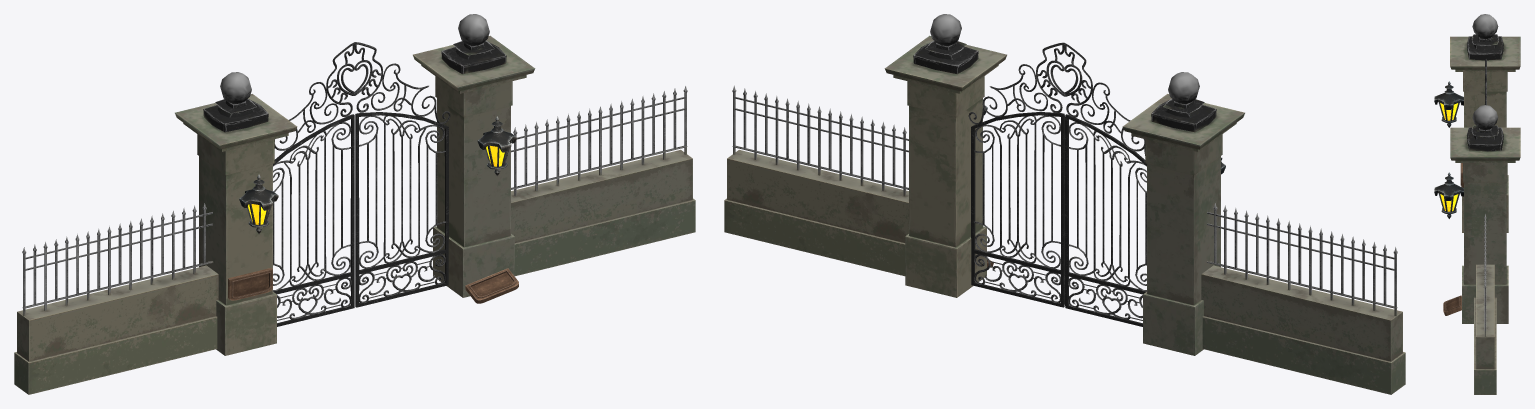
Rendered from graveyard_entrance.glb.
3 renders of one model, left to right at view 1: azimuth 30°, elevation 25°; view 2: azimuth 150°, elevation 25°; view 3: azimuth 270°, elevation 25°, orthographic. The views are drawn at different scales.
Parts seen in each view (by area): view 1: wall_low.001_5, Wall_Colum_low_4, Gate_low_2, Gate_Top_low_1, Lamp_low_3, sign_low_0; view 2: wall_low.001_5, Wall_Colum_low_4, Gate_low_2, Gate_Top_low_1; view 3: Wall_Colum_low_4, wall_low.001_5, Lamp_low_3, sign_low_0.
Boxes of the visible parts, x1,y1,x2,y2 form: wall_low.001_5: (14, 86, 695, 394); Wall_Colum_low_4: (175, 14, 535, 355); Gate_low_2: (273, 112, 448, 326); Gate_Top_low_1: (274, 42, 450, 150); Lamp_low_3: (239, 116, 516, 234); sign_low_0: (228, 268, 518, 303); wall_low.001_5: (724, 85, 1405, 394); Wall_Colum_low_4: (884, 14, 1244, 355); Gate_low_2: (971, 112, 1146, 326); Gate_Top_low_1: (968, 42, 1145, 155); Wall_Colum_low_4: (1450, 14, 1520, 323); wall_low.001_5: (1474, 214, 1496, 394); Lamp_low_3: (1434, 81, 1463, 218); sign_low_0: (1443, 163, 1463, 315).
Bounding box in the file's own units: 9.89 × 3.79 × 1.41.
Materials: 7 (6 with a texture image).
